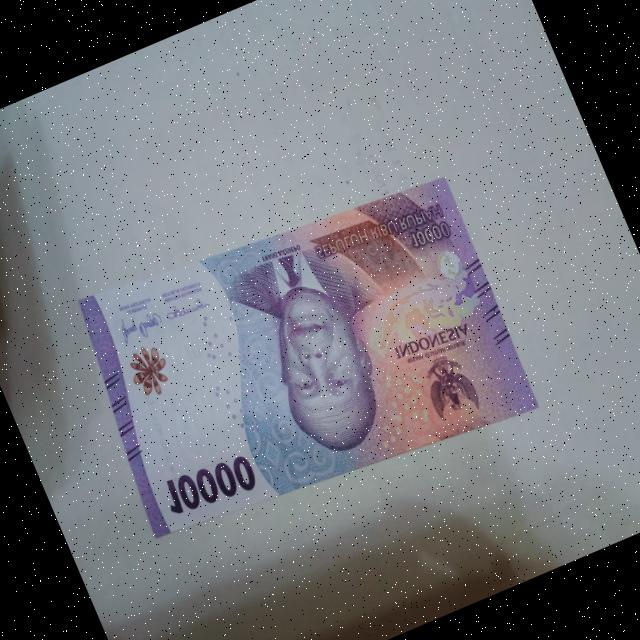10K: (38, 136, 550, 574)
